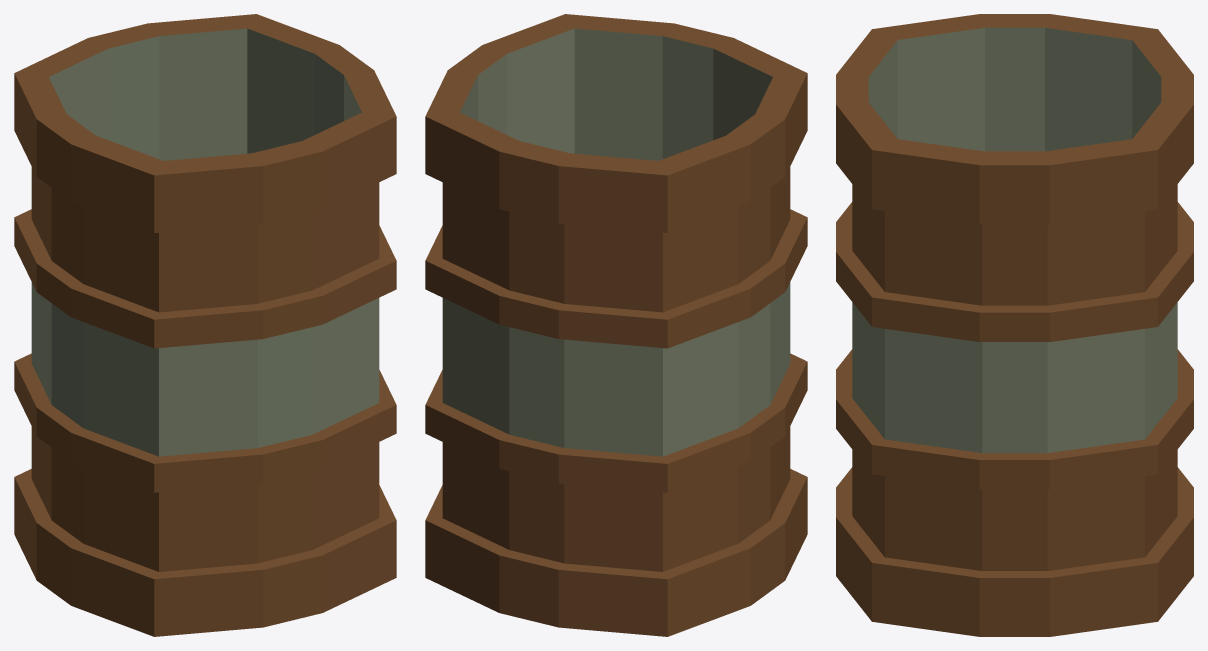
The model's file is kenney_survival-kit__barrel-open__meadow.fbx.
3 renders of one model, left to right at view 1: azimuth 30°, elevation 25°; view 2: azimuth 150°, elevation 25°; view 3: azimuth 270°, elevation 25°, orthographic. The views are drawn at different scales.
Visible parts, largest first — view 1: kenney_survival-kit__barrel-open__meadow_wood, kenney_survival-kit__barrel-open__meadow_stone; view 2: kenney_survival-kit__barrel-open__meadow_wood, kenney_survival-kit__barrel-open__meadow_stone; view 3: kenney_survival-kit__barrel-open__meadow_wood, kenney_survival-kit__barrel-open__meadow_stone.
Boxes of the visible parts, x1=… form: kenney_survival-kit__barrel-open__meadow_wood: x1=14, y1=14, x2=396, y2=636; kenney_survival-kit__barrel-open__meadow_stone: x1=31, y1=28, x2=379, y2=456; kenney_survival-kit__barrel-open__meadow_wood: x1=425, y1=14, x2=807, y2=636; kenney_survival-kit__barrel-open__meadow_stone: x1=442, y1=28, x2=790, y2=456; kenney_survival-kit__barrel-open__meadow_wood: x1=836, y1=14, x2=1193, y2=636; kenney_survival-kit__barrel-open__meadow_stone: x1=852, y1=27, x2=1177, y2=453.
Bounding box in the file's own units: 0.8446 × 1.23 × 0.8446.
2 materials, 2 textured.
